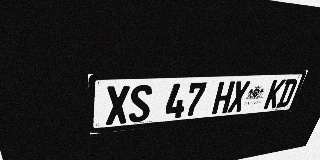4: (164, 83, 188, 119)
7: (183, 82, 207, 117)
D: (276, 79, 299, 108)
H: (211, 81, 235, 114)
K: (263, 79, 286, 109)
S: (129, 84, 153, 123)
X: (106, 85, 130, 125), (227, 81, 251, 113)
